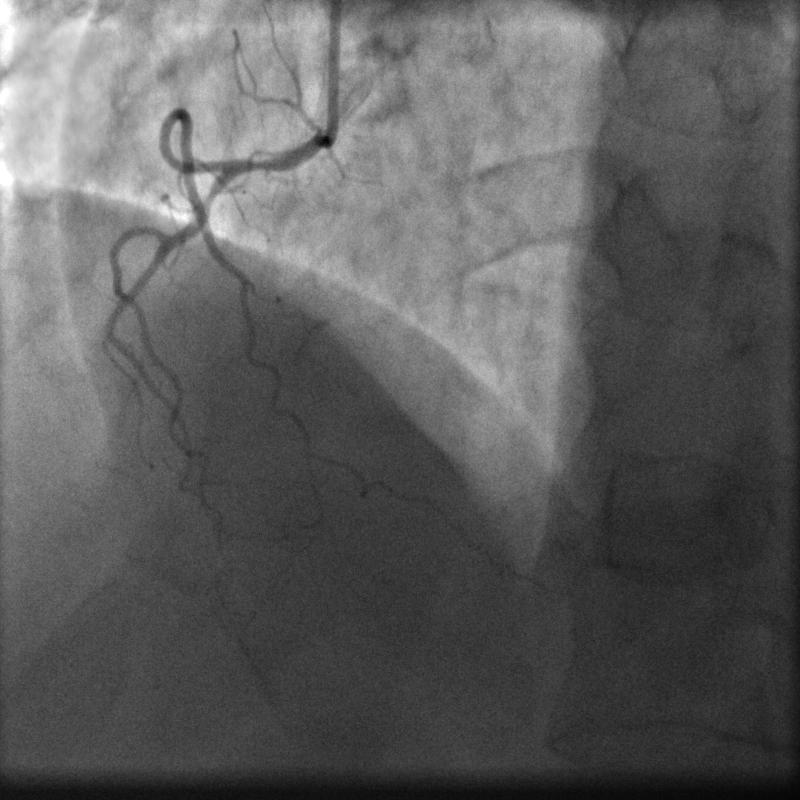Stenosis: (239, 151, 281, 179)
